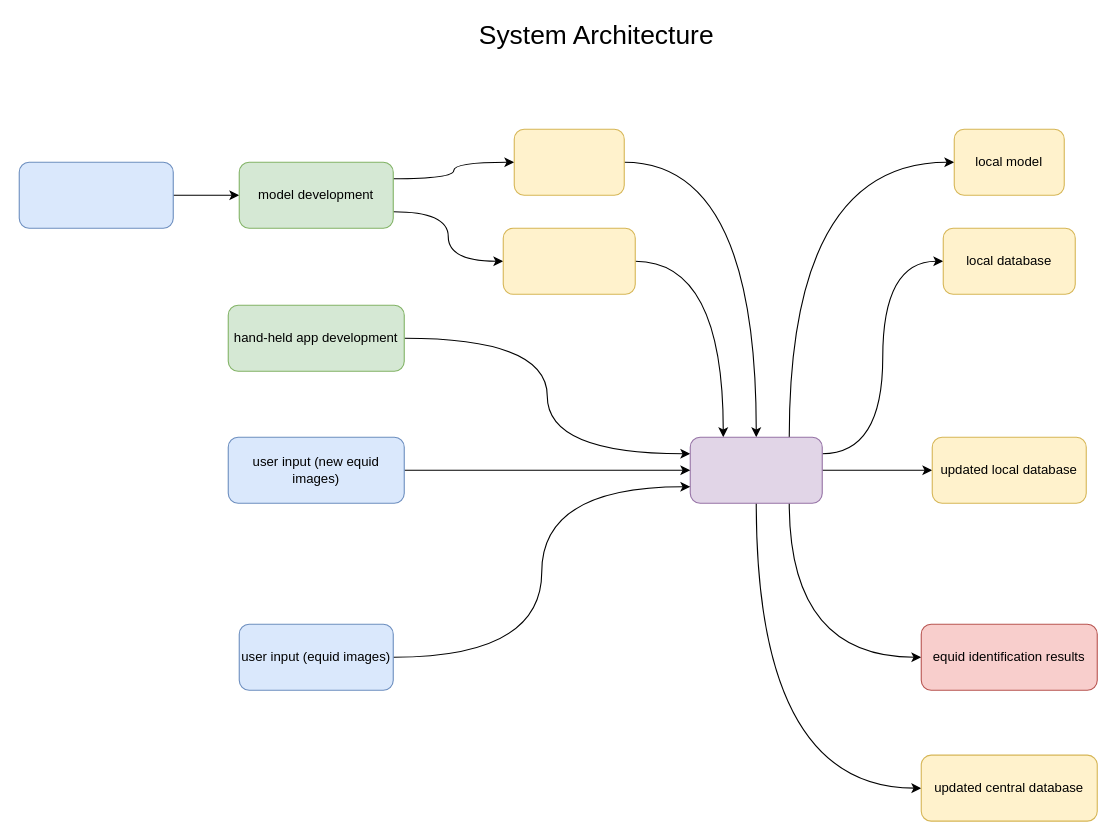
Image size: 1117x840. Some labels were removed from this diagram. The centre of each missing label's shape, as x and y in pixels:
"central database" goes at [568,260].
"initial training data" goes at [95,194].
"mobile app" goes at [755,469].
"model" goes at [568,161].
